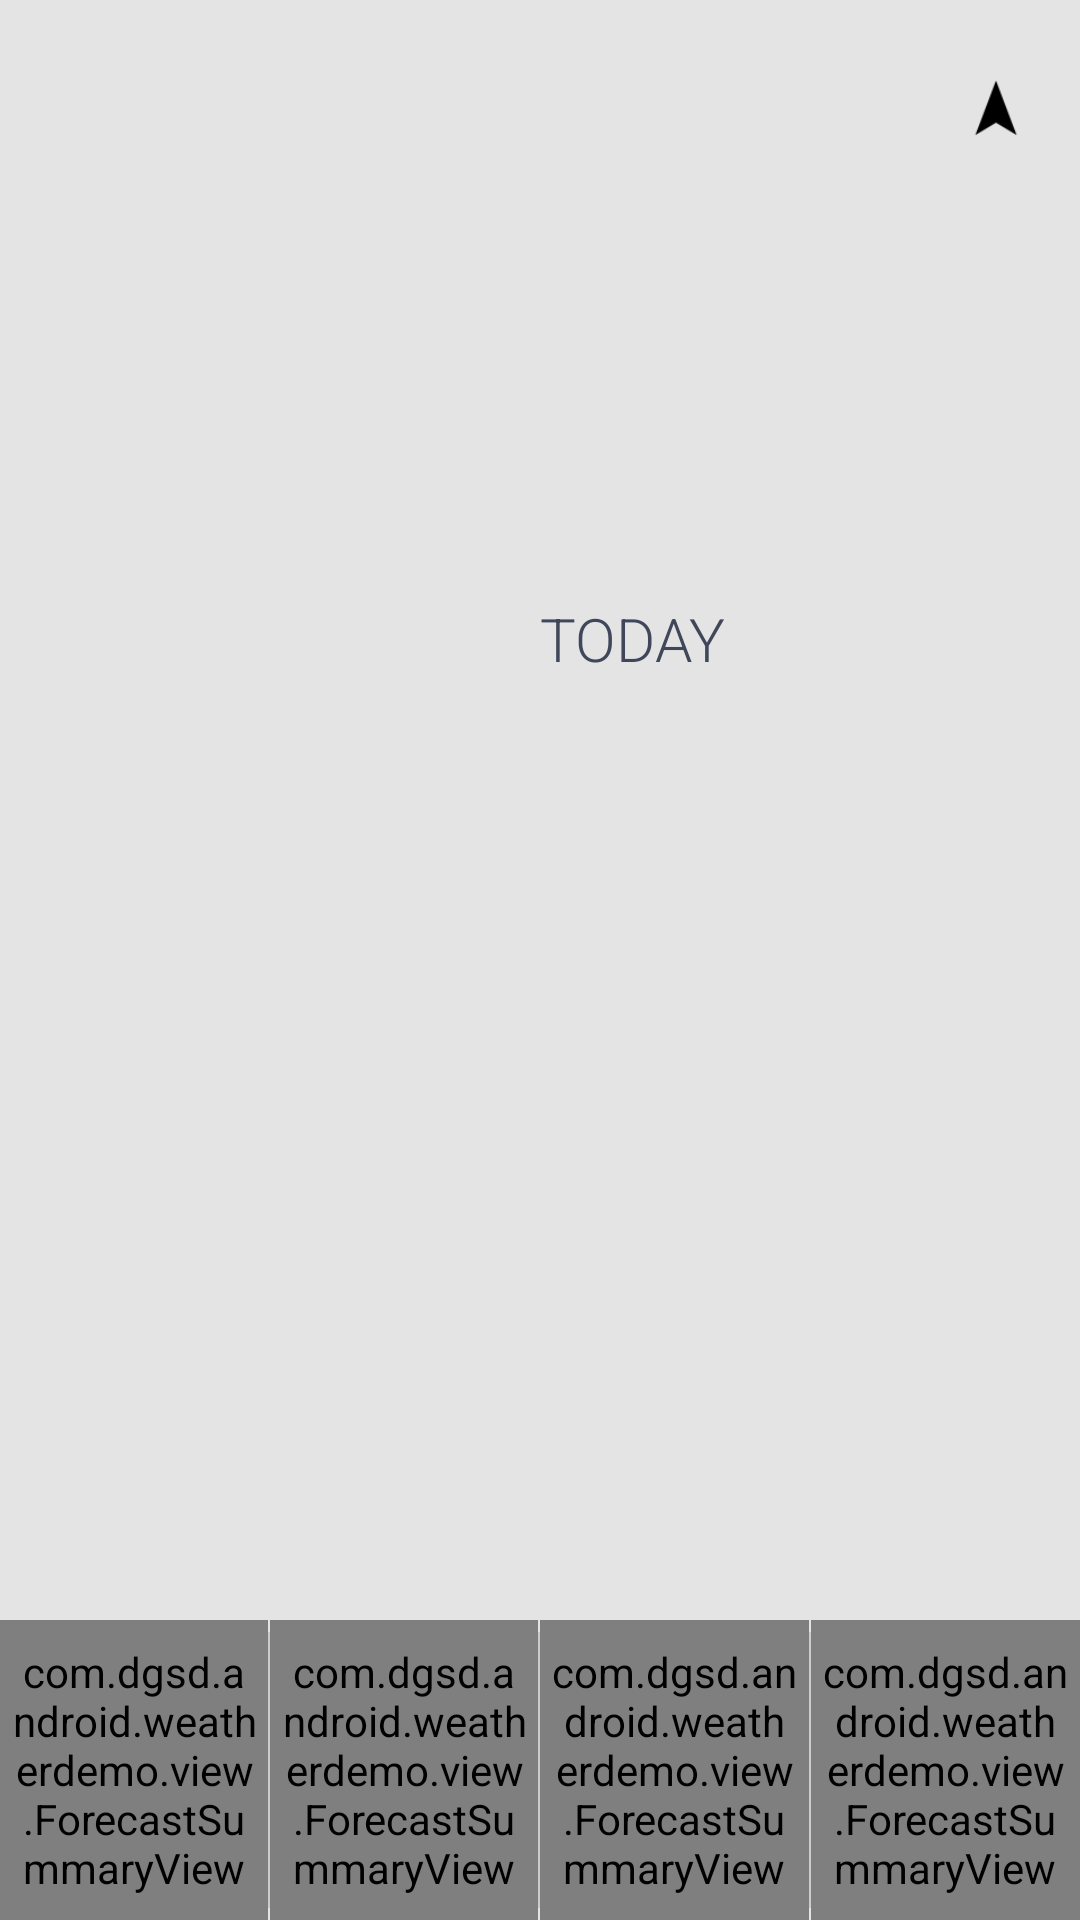

Locate icon controls on the screen. Image size 1080 x 1920, boxes as (x1, y1, x2, y2).
navigate: (975, 81, 1017, 135)
